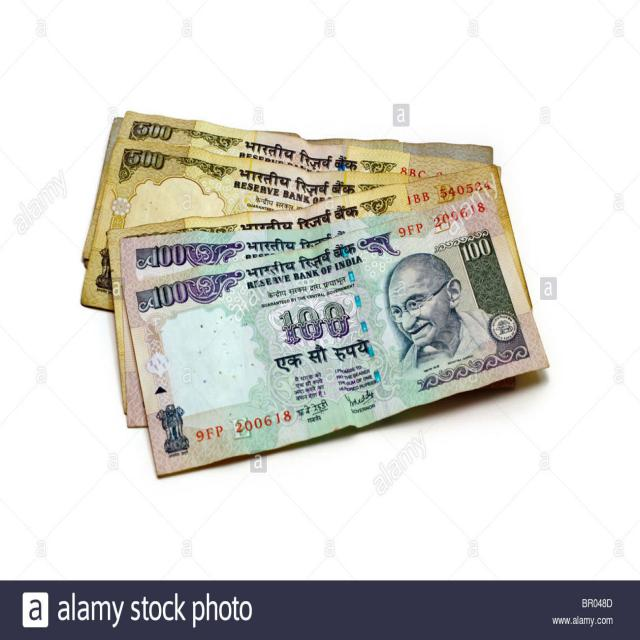100IndianRupees: (124, 212, 546, 479)
